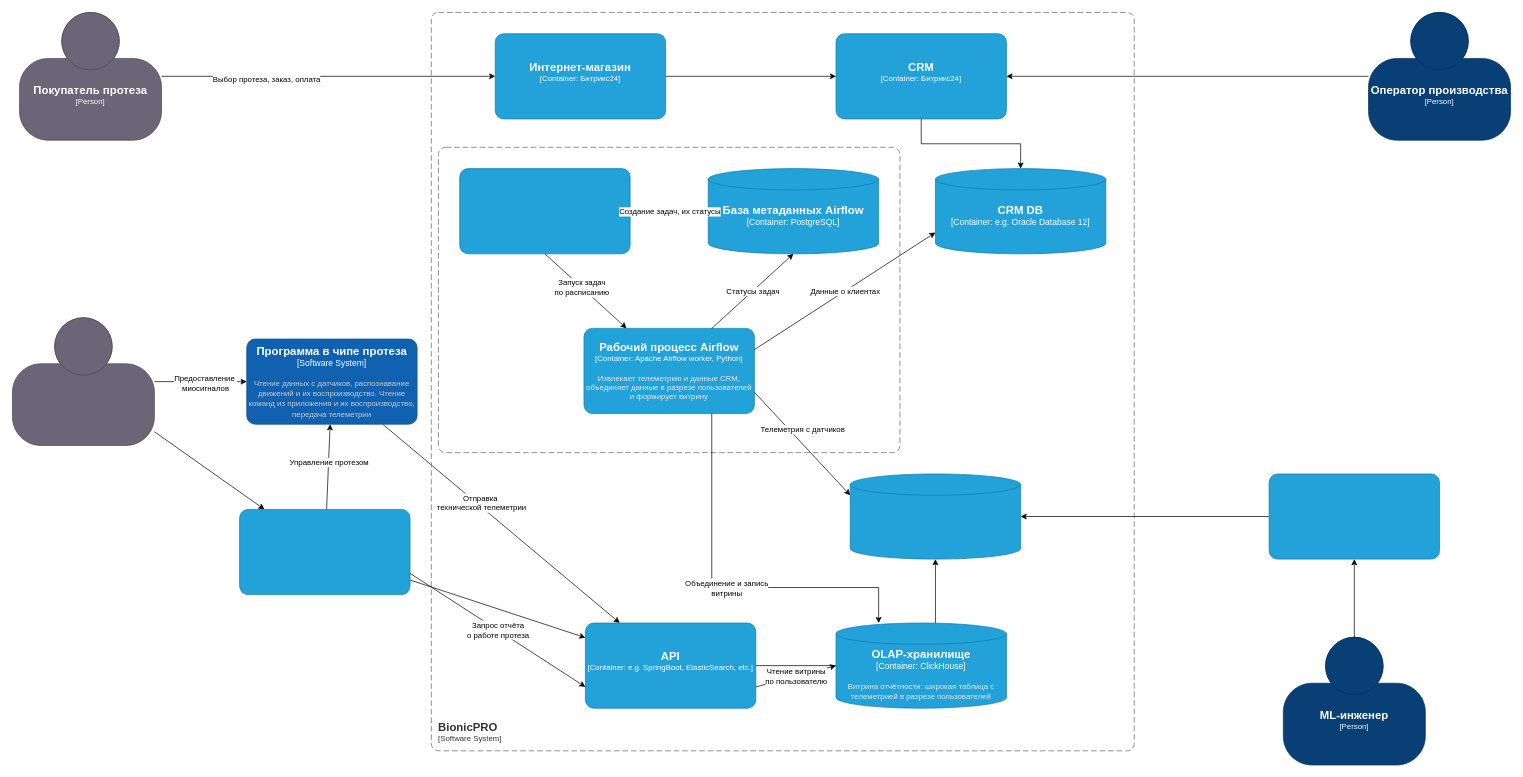
Image size: 1523x777. Some labels were removed from this diagram. The shapes that lost their labels are listed below. From the top down, each one's box as (x1, y1, x2, y2) in pixels, then its label:
(459, 168, 630, 254): Планировщик Airflow [Container: Apache Airflow scheduler]
(438, 147, 900, 453): ETL-процесс подготовки отчётности [Container]
(12, 317, 154, 446): Пилот протеза [Person] С этого человека считываются данные
(850, 473, 1021, 559): База данных [Container: PostgreSQL]
(1268, 473, 1440, 559): cli tool [Container: e.g. SpringBoot, ElasticSearch, etc.]
(239, 509, 410, 595): Приложение для донастройки протеза [Container: iOD, Android]
